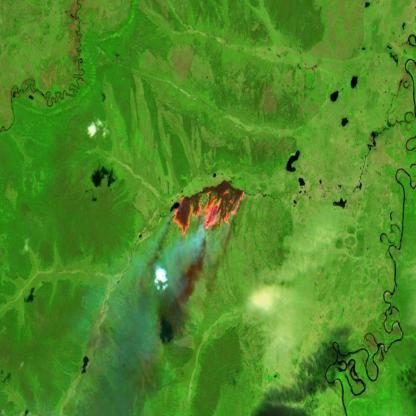fire: (170, 182, 246, 238)
